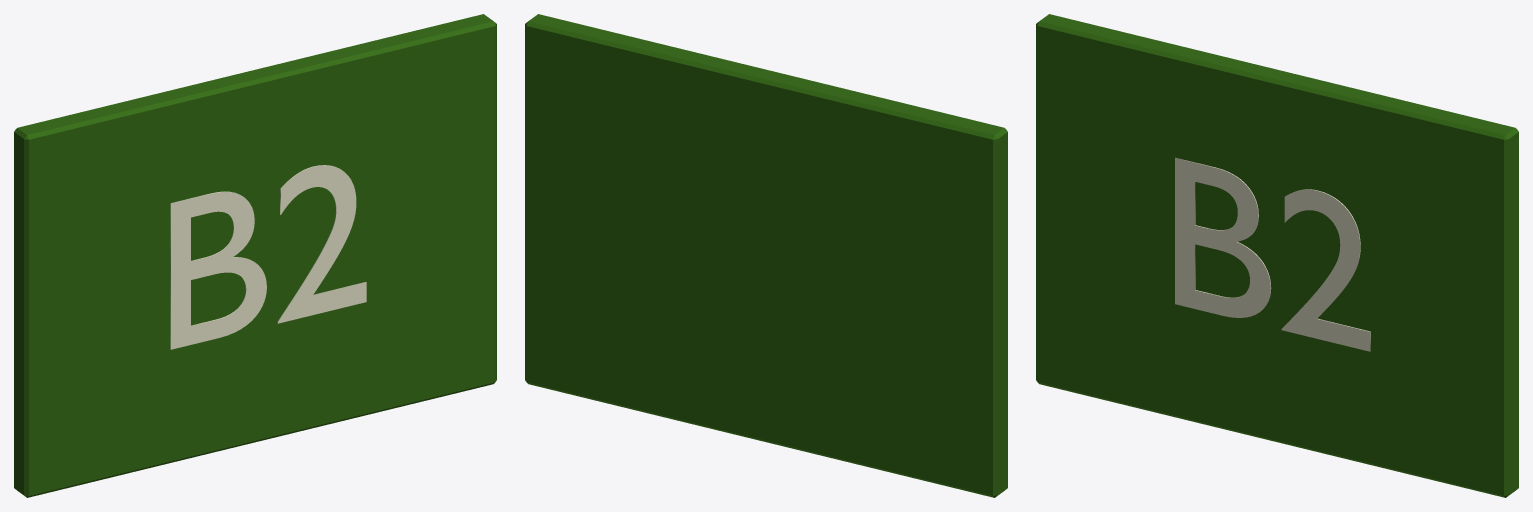
File: SectionB2.fbx
The picture shows the model from 3 angles, left to right: view 1: azimuth 30°, elevation 25°; view 2: azimuth 150°, elevation 25°; view 3: azimuth 330°, elevation 25°; orthographic projection.
Visible parts, largest first — view 1: SectionB2; view 2: SectionB2; view 3: SectionB2.
Boxes of the visible parts, left/top/right/bottom form: SectionB2: left=14, top=14, right=496, bottom=497; SectionB2: left=525, top=14, right=1007, bottom=497; SectionB2: left=1036, top=14, right=1518, bottom=497.
Bounding box in the file's own units: 120 × 88 × 7.
Materials: 1 (1 with a texture image).
